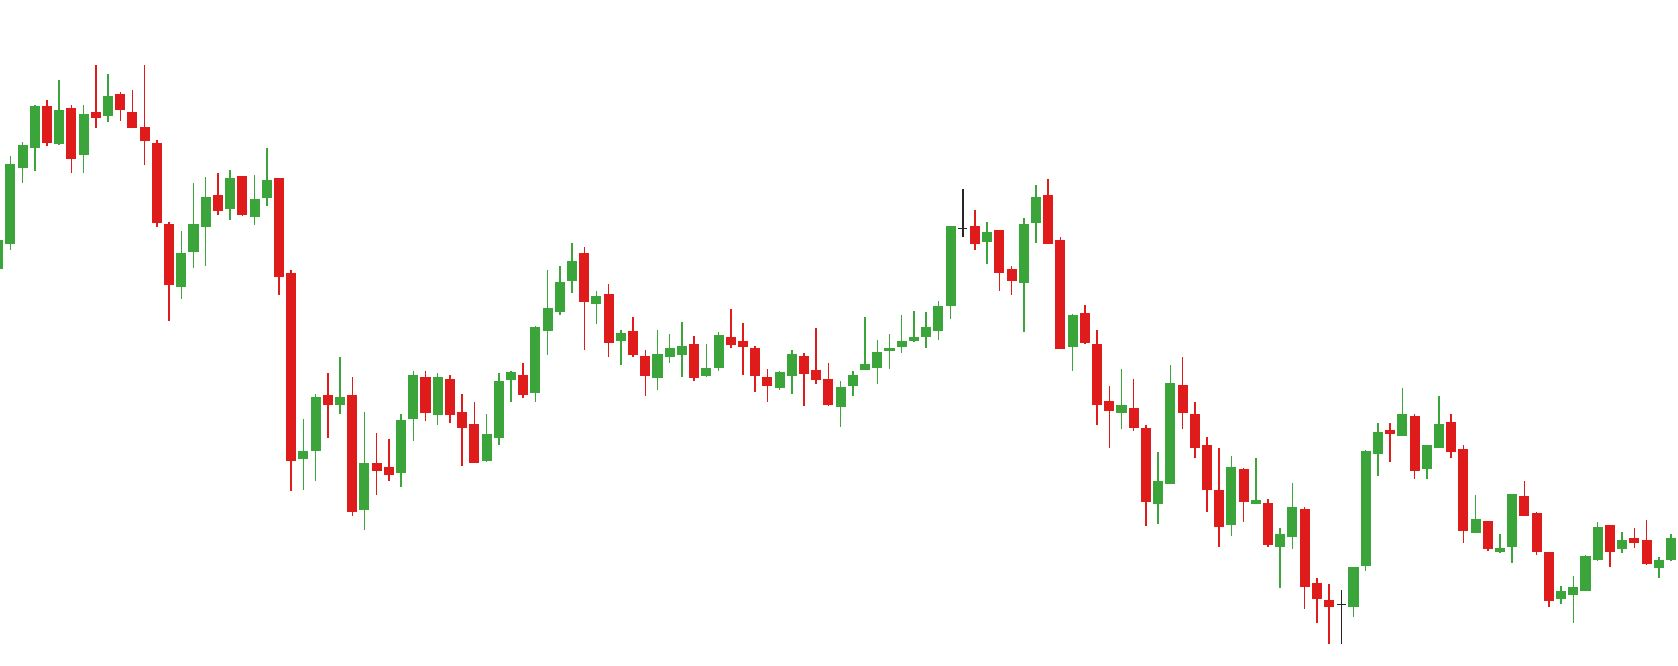buy: (285, 396, 373, 535)
sell: (958, 175, 1056, 272)
